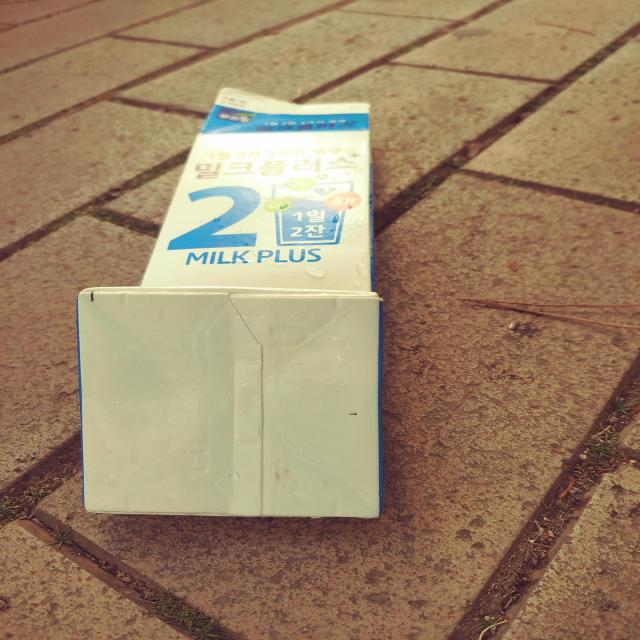paperpack: (76, 87, 382, 518)
